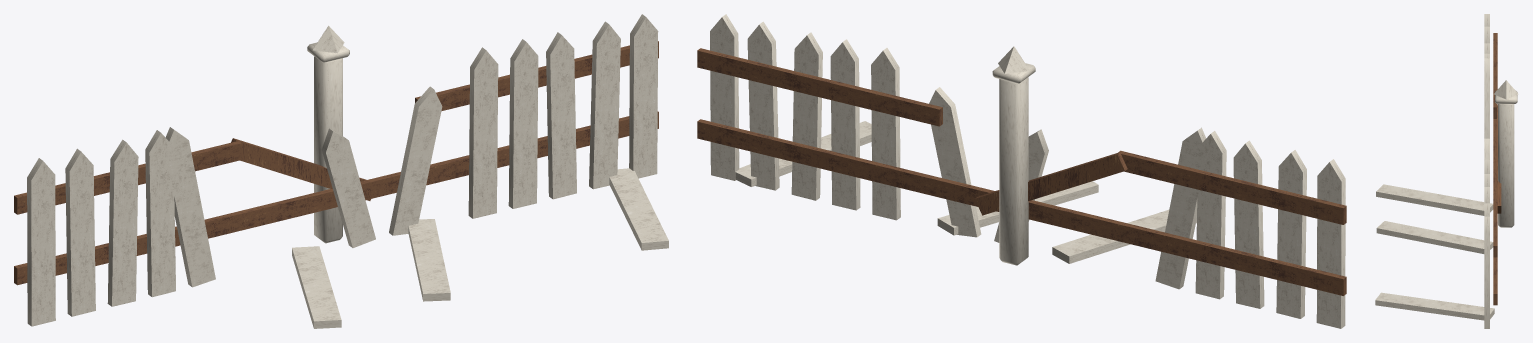
Rendered from picket_fence_broken.glb.
The picture shows the model from 3 angles, left to right: view 1: azimuth 30°, elevation 25°; view 2: azimuth 150°, elevation 25°; view 3: azimuth 270°, elevation 25°; orthographic projection. The views are drawn at different scales.
Parts seen in each view (by area): view 1: Fence; view 2: Fence; view 3: Fence.
Part boxes in pixels (x1,y1,x2,y2): Fence: (14, 14, 668, 328); Fence: (697, 14, 1346, 328); Fence: (1375, 14, 1518, 328).
Bounding box in the file's own units: 4 × 1.27 × 1.14.
1 material, 1 textured.
